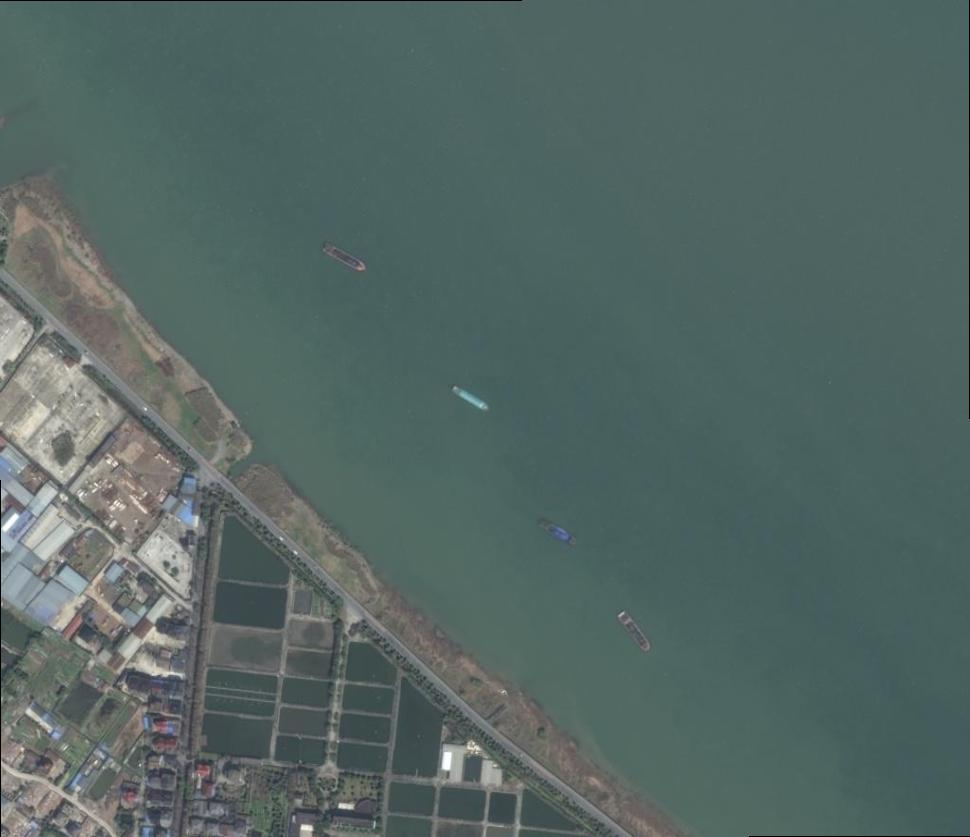ship: (321, 239, 370, 272), (618, 611, 653, 654), (537, 515, 579, 547), (450, 384, 490, 411)
